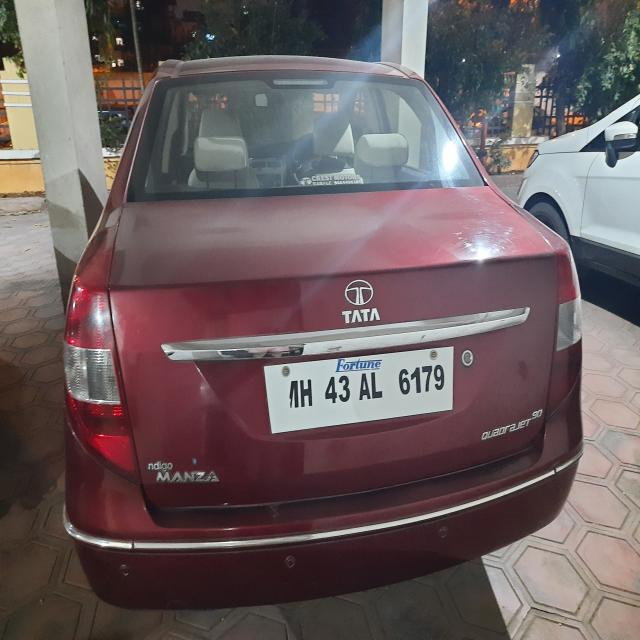Number-Plate: (270, 353, 455, 426)
